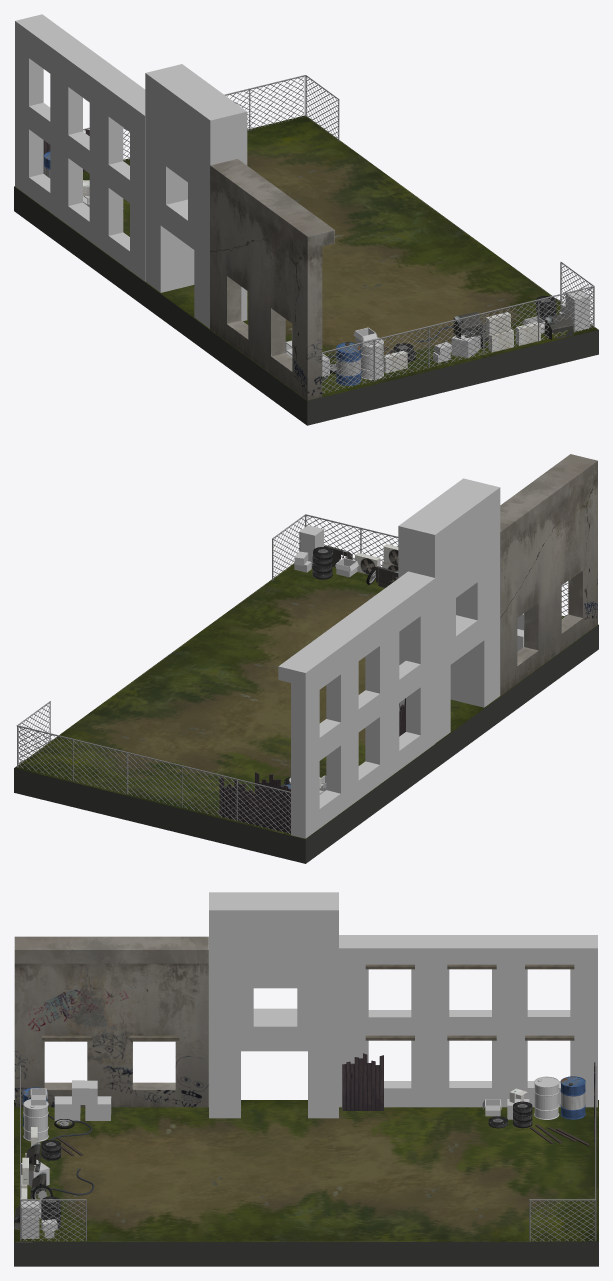
File: building outside05.fbx
3 renders of one model, top to bottom at view 1: azimuth 30°, elevation 25°; view 2: azimuth 150°, elevation 25°; view 3: azimuth 270°, elevation 25°, orthographic.
Visible parts, largest first — view 1: Cube, Cube.010, Cube.009, Cube.016, Plane.004, Plane.008, Plane.007, Plane.009, Cylinder.022, Plane.013, Plane.012, Cube.037 (+6 smaller); view 2: Cube, Cube.010, Cube.009, Cube.016, Cube.014, Cube.015, Plane.004, Plane.001, Plane.002, Plane.005, Plane.003, Plane.006 (+4 smaller); view 3: Cube, Cube.010, Cube.009, Cube.016, Cube.038, Plane.006, Plane.015, Cylinder.026, Cylinder.027, Cylinder.023, Cube.037, Cube.013 (+2 smaller).
Part boxes in pixels (box(x1,y1,x2,y2)): Cube: box(14, 115, 598, 425); Cube.010: box(15, 14, 145, 281); Cube.009: box(210, 159, 334, 400); Cube.016: box(145, 64, 247, 328); Plane.004: box(250, 76, 304, 129); Plane.008: box(375, 327, 428, 381); Plane.007: box(429, 314, 483, 367); Plane.009: box(322, 341, 373, 393); Cylinder.022: box(336, 342, 361, 385); Plane.013: box(484, 301, 538, 354); Plane.012: box(539, 287, 593, 340); Cube.037: box(565, 290, 590, 331); Cube: box(14, 563, 598, 863); Cube.010: box(278, 571, 435, 838); Cube.009: box(500, 454, 597, 695); Cube.016: box(398, 478, 500, 743); Cube.014: box(255, 771, 290, 833); Cube.015: box(219, 776, 255, 824); Plane.004: box(18, 727, 72, 780); Plane.001: box(127, 753, 181, 807); Plane.002: box(182, 767, 236, 820); Plane.005: box(73, 740, 127, 793); Plane.003: box(237, 780, 290, 833); Plane.006: box(273, 516, 305, 579); Cube: box(14, 1100, 598, 1266); Cube.010: box(339, 935, 597, 1107); Cube.009: box(14, 936, 208, 1107); Cube.016: box(209, 892, 338, 1118); Cube.038: box(342, 1053, 383, 1110); Plane.006: box(21, 1200, 85, 1241); Plane.015: box(530, 1200, 594, 1241); Cylinder.026: box(560, 1076, 585, 1119); Cylinder.027: box(534, 1076, 559, 1119); Cylinder.023: box(23, 1099, 48, 1141); Cube.037: box(21, 1200, 39, 1238); Cube.013: box(72, 1080, 97, 1104).
Bounding box in the file's own units: 23015 × 17587 × 40064.
